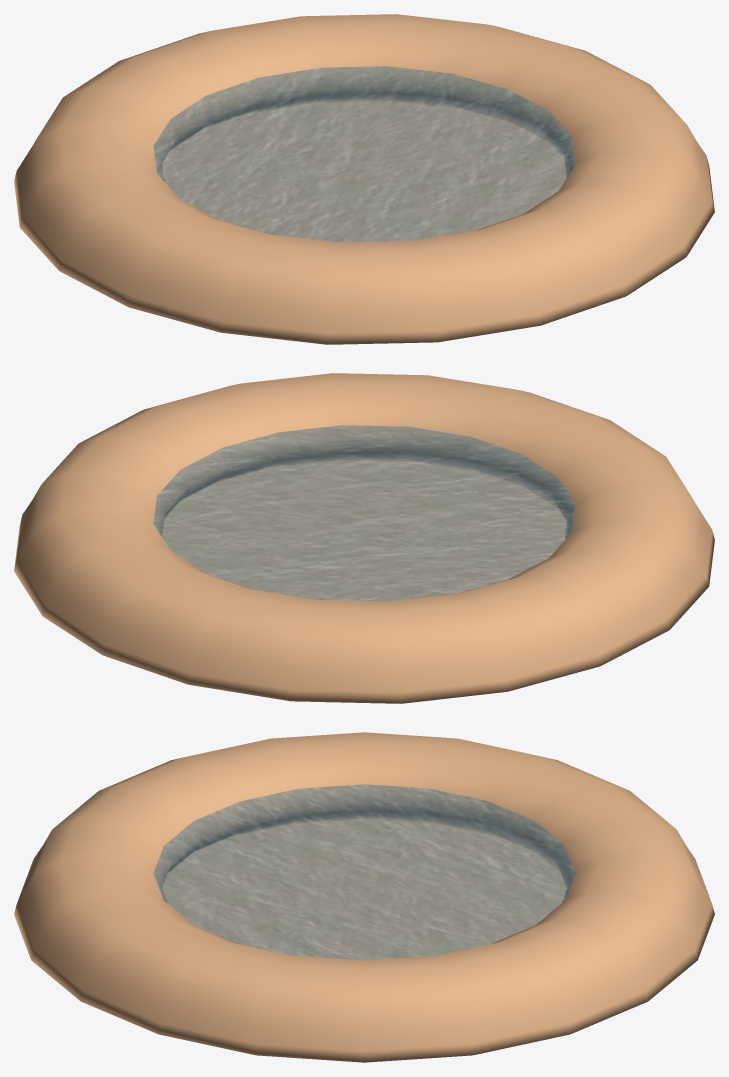
The model's file is waterSource.glb.
3 renders of one model, top to bottom at view 1: azimuth 30°, elevation 25°; view 2: azimuth 150°, elevation 25°; view 3: azimuth 270°, elevation 25°, orthographic.
Parts seen in each view (by area): view 1: Torus, Circle, Circle.001; view 2: Torus, Circle, Circle.001; view 3: Torus, Circle, Circle.001.
Boxes of the visible parts, x1=… form: Torus: x1=14, y1=14, x2=714, y2=344; Circle: x1=153, y1=66, x2=575, y2=242; Circle.001: x1=162, y1=101, x2=566, y2=242; Torus: x1=14, y1=373, x2=714, y2=703; Circle: x1=153, y1=425, x2=575, y2=601; Circle.001: x1=162, y1=460, x2=566, y2=601; Torus: x1=14, y1=732, x2=714, y2=1062; Circle: x1=153, y1=784, x2=575, y2=960; Circle.001: x1=162, y1=819, x2=566, y2=960.
Bounding box in the file's own units: 4.48 × 0.4493 × 4.48.
